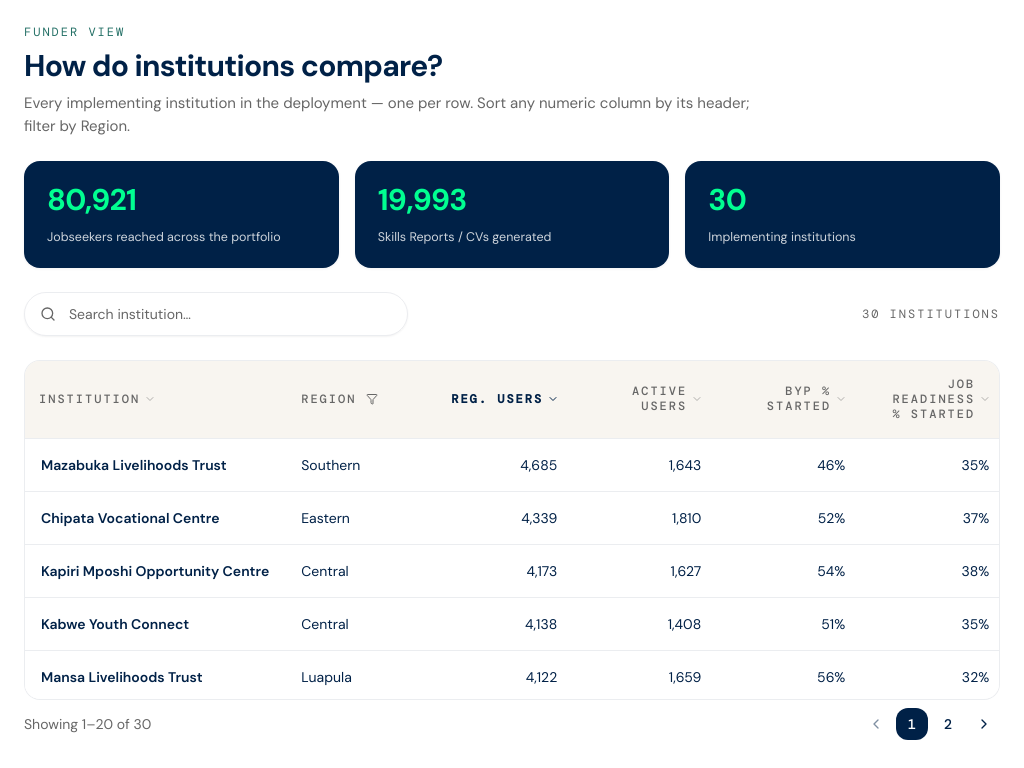
Scenario: Institutions › should open the drill-down for the institution whose row is clicked, and close it again
// WHEN an institution's row is clicked
Click the button "Chipata Vocational Centre": (130, 518) [41, 508, 220, 528]
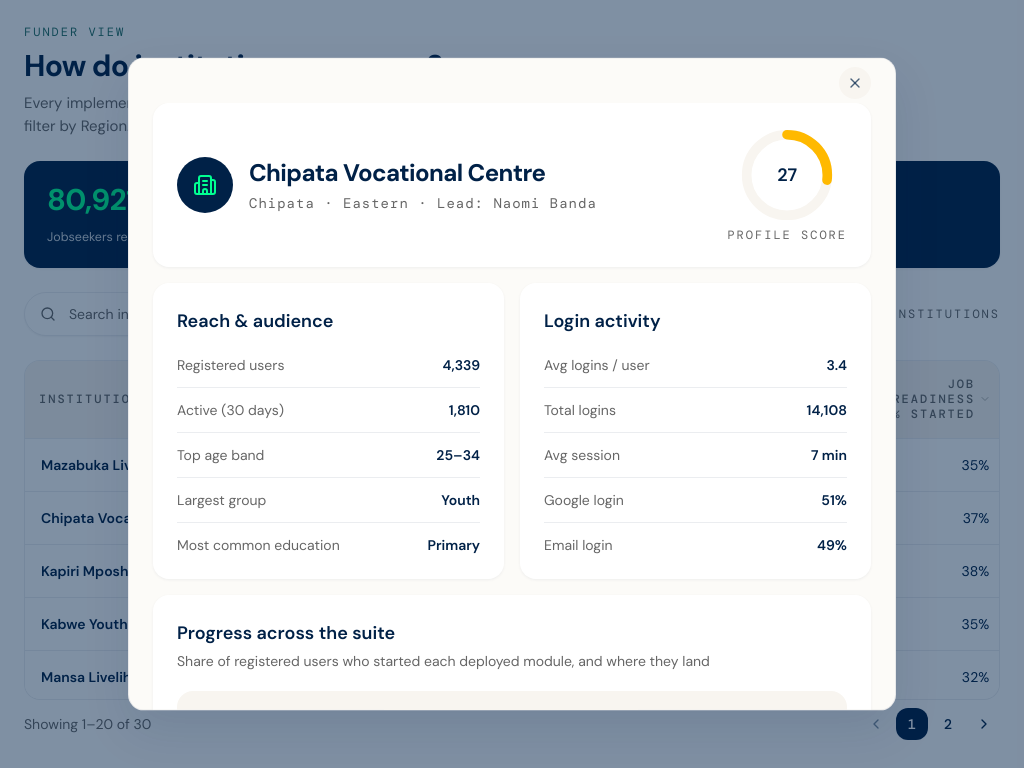
Check: the text "Chipata · Eastern · Lead: Naomi Banda" is shown, box [249, 193, 597, 213]
Check: the heading "Progress across the suite" is shown, box [177, 621, 395, 645]
// WHEN it is dismissed
Click the button named "Close": (855, 83) [839, 67, 871, 99]
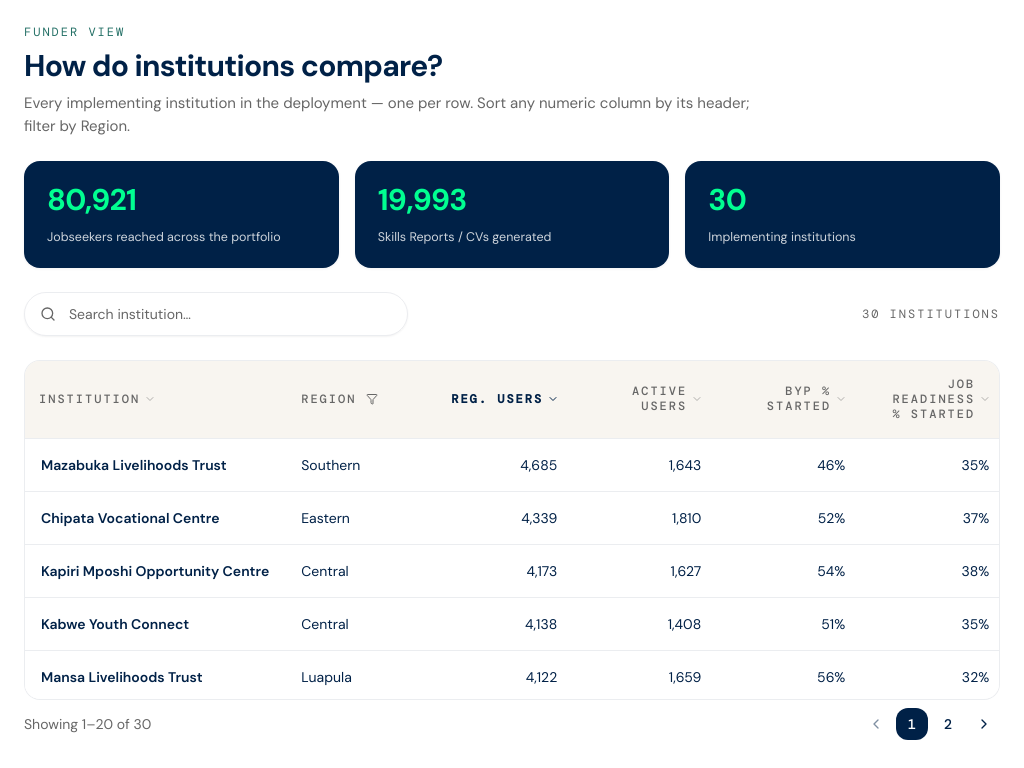
Check: the dialog is gone
